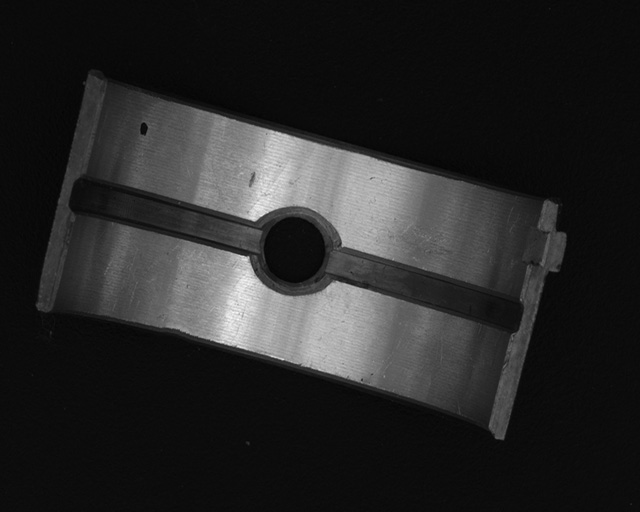blot: (138, 121, 149, 138)
bruise: (247, 170, 255, 188)
gap: (327, 247, 523, 329), (71, 177, 260, 254)
hole: (252, 206, 339, 291)
scratch: (377, 219, 468, 261)
